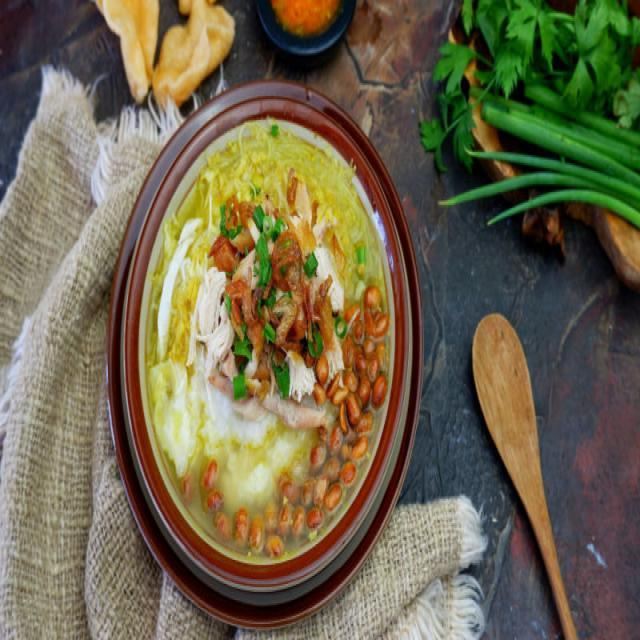bubur ayam: (146, 130, 393, 563)
mangkuk: (120, 111, 417, 598), (256, 0, 356, 67)
